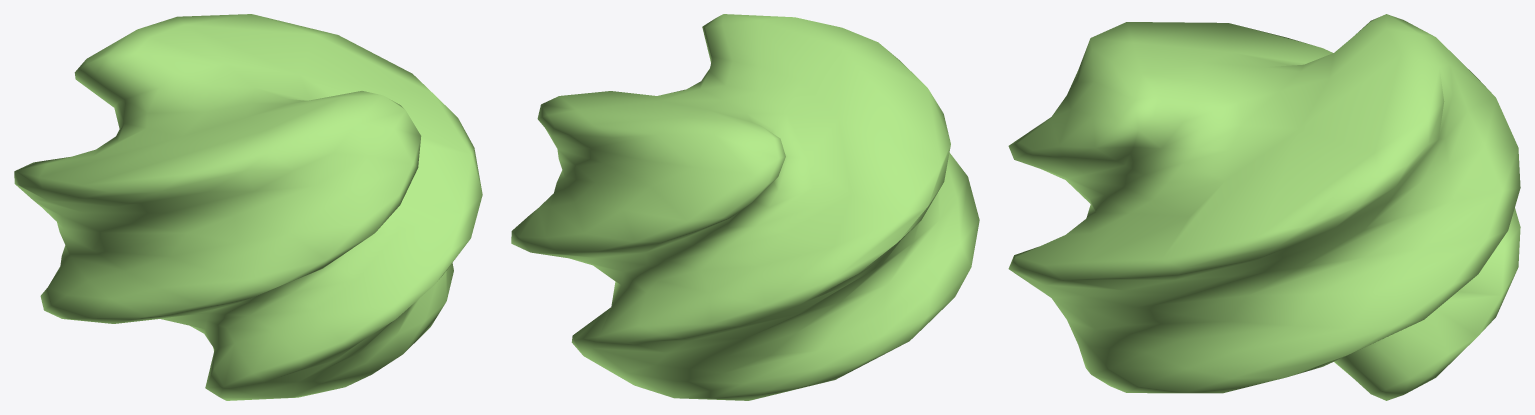
The model's file is p_stickybubble_slimesphere02_pose0.fbx.
The picture shows the model from 3 angles, left to right: view 1: azimuth 30°, elevation 25°; view 2: azimuth 150°, elevation 25°; view 3: azimuth 270°, elevation 25°; orthographic projection. The views are drawn at different scales.
Visible parts, largest first — view 1: Icosphere.006; view 2: Icosphere.006; view 3: Icosphere.006.
Boxes of the visible parts, x1,y1,x2,y2 form: Icosphere.006: (14, 14, 482, 400); Icosphere.006: (511, 14, 979, 400); Icosphere.006: (1008, 14, 1520, 400).
Size of the model in its own units: 10.3 by 7.04 by 10.51.
